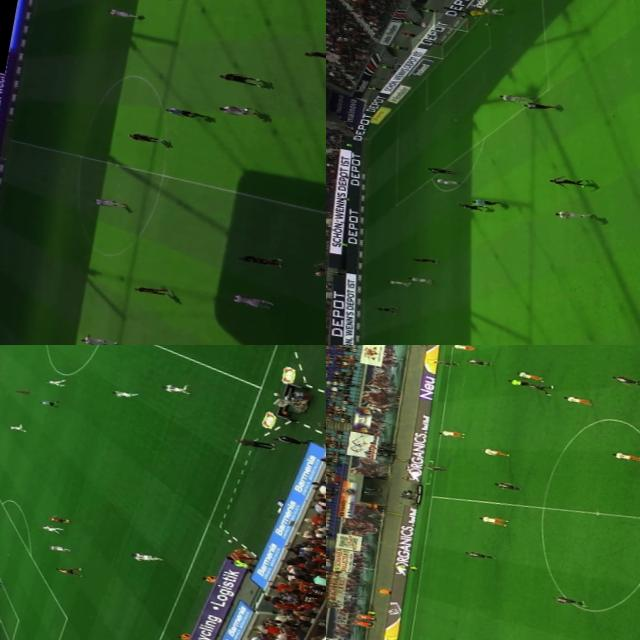ball: (310, 269, 322, 275), (60, 516, 70, 520), (482, 20, 489, 24)
player: (216, 68, 266, 86), (230, 292, 278, 310), (233, 250, 281, 268), (130, 280, 174, 298), (552, 204, 594, 222), (218, 102, 261, 118), (545, 172, 588, 188), (90, 194, 131, 210), (126, 128, 167, 143), (76, 333, 124, 345), (128, 549, 167, 563), (494, 90, 532, 104), (550, 594, 588, 608), (104, 6, 142, 19), (303, 44, 326, 65), (478, 514, 512, 528), (522, 99, 557, 112), (610, 449, 640, 464), (522, 380, 554, 394), (51, 561, 80, 576), (609, 373, 640, 387), (158, 381, 190, 394), (454, 200, 488, 212), (462, 548, 496, 560), (492, 478, 522, 491), (438, 426, 467, 439), (423, 164, 453, 176), (562, 392, 592, 404), (463, 7, 492, 19), (385, 276, 414, 288), (420, 461, 448, 473), (479, 4, 506, 16), (111, 386, 138, 398), (512, 370, 544, 380), (314, 258, 326, 284), (412, 253, 439, 264), (44, 514, 72, 524), (482, 446, 509, 456), (465, 356, 492, 366), (434, 175, 458, 186), (39, 523, 64, 533), (409, 274, 432, 284), (374, 302, 397, 312), (5, 421, 28, 431), (434, 356, 457, 366), (47, 376, 66, 387), (13, 385, 32, 396), (49, 544, 71, 552), (449, 345, 476, 350), (0, 579, 6, 588)
